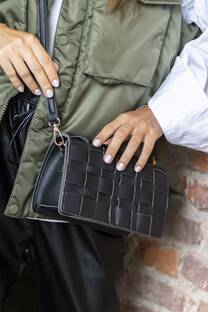cartera: (29, 110, 172, 241)
cuero: (33, 137, 166, 236)
